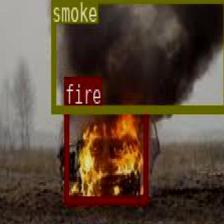fire: (64, 104, 147, 203)
smoke: (51, 0, 224, 111)
